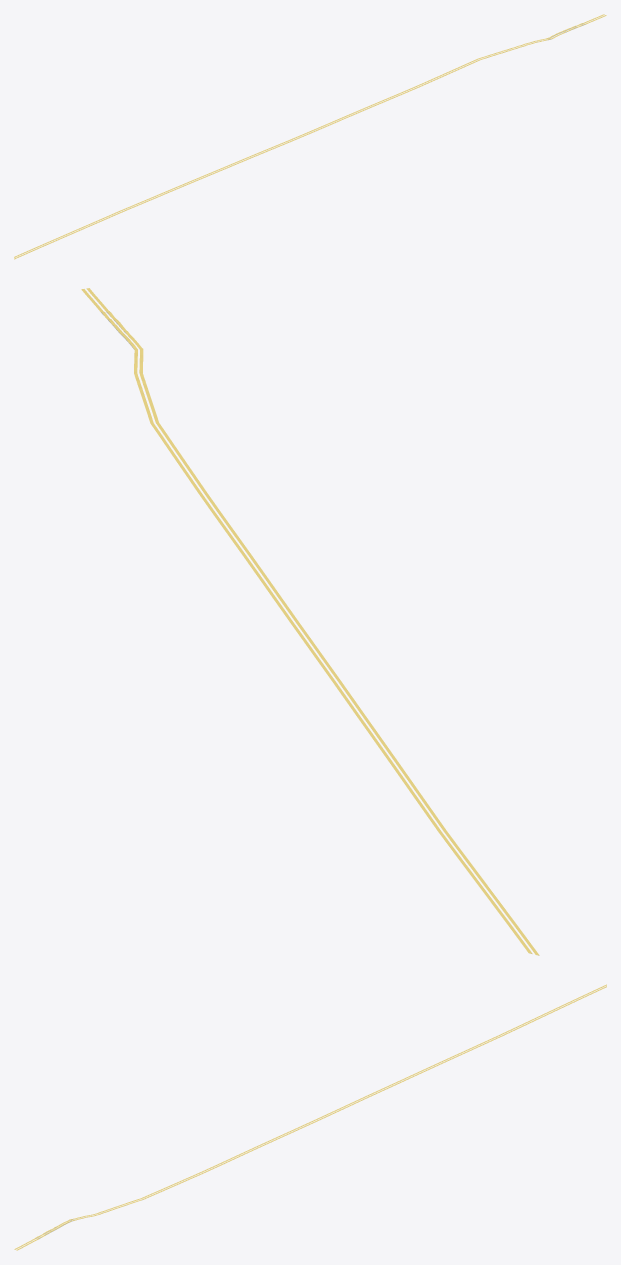
The model's file is port-credit-hml-hml.glb.
3 views of the same model, one above another, from view 1: azimuth 90°, elevation 25°; view 2: azimuth 150°, elevation 25°; view 3: azimuth 270°, elevation 25° (orthographic). The views are drawn at different scales.
Visible parts, largest first — view 1: service-guide-hml-main-a-0, service-guide-hml-main-b-0; view 2: service-guide-hml-main-b-0, service-guide-hml-main-a-0; view 3: service-guide-hml-main-b-0, service-guide-hml-main-a-0.
Boxes of the visible parts, x1,y1,x2,y2 form: service-guide-hml-main-a-0: (14, 14, 604, 257); service-guide-hml-main-b-0: (14, 15, 606, 259); service-guide-hml-main-b-0: (86, 288, 539, 955); service-guide-hml-main-a-0: (81, 289, 532, 953); service-guide-hml-main-b-0: (14, 984, 606, 1249); service-guide-hml-main-a-0: (16, 986, 606, 1250).
Size of the model in its own units: 1057 by 20.26 by 1035.
